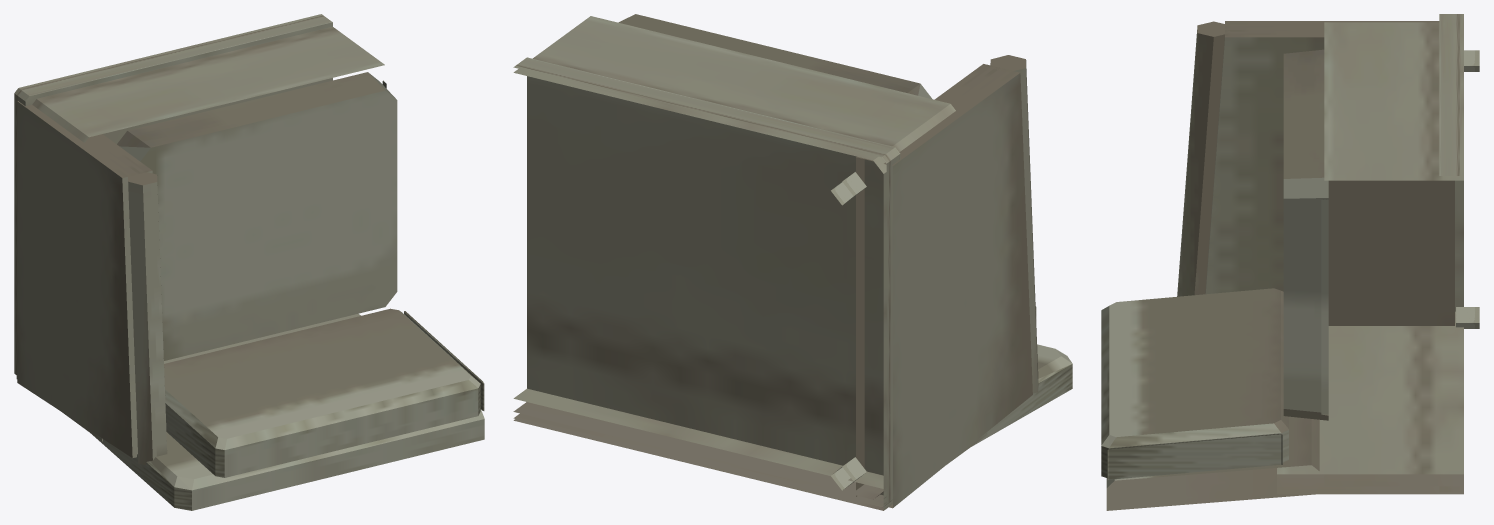
The model's file is pz_sofa_seating_indoor_03_light_blue_0_0_fidelity_r1.obj.
3 views of the same model, side by side, from view 1: azimuth 30°, elevation 25°; view 2: azimuth 150°, elevation 25°; view 3: azimuth 270°, elevation 25° (orthographic). The views are drawn at different scales.
Visible parts, largest first — view 1: pz_sofa_seating_indoor_03_light_blue_0_0__seat_0__seat, pz_sofa_seating_indoor_03_light_blue_0_0__back_cushion_0__back, pz_sofa_seating_indoor_03_light_blue_0_0__lazy_arm_panel_-1__arm, pz_sofa_seating_indoor_03_light_blue_0_0__lower_body__body, pz_sofa_seating_indoor_03_light_blue_0_0__rear_shell__back, pz_sofa_seating_indoor_03_light_blue_0_0__sloping_rail_-1__arm, pz_sofa_seating_indoor_03_light_blue_0_0__low_plinth__body, pz_sofa_seating_indoor_03_light_blue_0_0__rear_body_bridge__body, pz_sofa_seating_indoor_03_light_blue_0_0__back_cushion_1__back; view 2: pz_sofa_seating_indoor_03_light_blue_0_0__low_plinth__body, pz_sofa_seating_indoor_03_light_blue_0_0__lazy_arm_panel_-1__arm, pz_sofa_seating_indoor_03_light_blue_0_0__lower_body__body, pz_sofa_seating_indoor_03_light_blue_0_0__rear_body_bridge__body, pz_sofa_seating_indoor_03_light_blue_0_0__seat_0__seat, pz_sofa_seating_indoor_03_light_blue_0_0__sloping_rail_-1__arm, pz_sofa_seating_indoor_03_light_blue_0_0__rear_shell__back, pz_sofa_seating_indoor_03_light_blue_0_0__foot_-1_1__frame, pz_sofa_seating_indoor_03_light_blue_0_0__foot_-1_-1__frame; view 3: pz_sofa_seating_indoor_03_light_blue_0_0__lazy_arm_panel_-1__arm, pz_sofa_seating_indoor_03_light_blue_0_0__back_cushion_0__back, pz_sofa_seating_indoor_03_light_blue_0_0__rear_body_bridge__body, pz_sofa_seating_indoor_03_light_blue_0_0__lower_body__body, pz_sofa_seating_indoor_03_light_blue_0_0__seat_0__seat, pz_sofa_seating_indoor_03_light_blue_0_0__sloping_rail_-1__arm, pz_sofa_seating_indoor_03_light_blue_0_0__rear_shell__back, pz_sofa_seating_indoor_03_light_blue_0_0__back_cushion_1__back, pz_sofa_seating_indoor_03_light_blue_0_0__low_plinth__body, pz_sofa_seating_indoor_03_light_blue_0_0__seat_1__seat, pz_sofa_seating_indoor_03_light_blue_0_0__foot_-1_-1__frame.
Part boxes in pixels (<box>): pz_sofa_seating_indoor_03_light_blue_0_0__seat_0__seat: <box>117,72,397,360</box>; pz_sofa_seating_indoor_03_light_blue_0_0__back_cushion_0__back: <box>164,308,480,477</box>; pz_sofa_seating_indoor_03_light_blue_0_0__lazy_arm_panel_-1__arm: <box>17,101,152,458</box>; pz_sofa_seating_indoor_03_light_blue_0_0__lower_body__body: <box>32,26,384,142</box>; pz_sofa_seating_indoor_03_light_blue_0_0__rear_shell__back: <box>90,409,484,510</box>; pz_sofa_seating_indoor_03_light_blue_0_0__sloping_rail_-1__arm: <box>128,172,167,465</box>; pz_sofa_seating_indoor_03_light_blue_0_0__low_plinth__body: <box>14,14,332,375</box>; pz_sofa_seating_indoor_03_light_blue_0_0__rear_body_bridge__body: <box>16,313,360,441</box>; pz_sofa_seating_indoor_03_light_blue_0_0__back_cushion_1__back: <box>404,311,484,410</box>; pz_sofa_seating_indoor_03_light_blue_0_0__low_plinth__body: <box>513,57,900,508</box>; pz_sofa_seating_indoor_03_light_blue_0_0__lazy_arm_panel_-1__arm: <box>856,64,1032,508</box>; pz_sofa_seating_indoor_03_light_blue_0_0__lower_body__body: <box>513,16,955,499</box>; pz_sofa_seating_indoor_03_light_blue_0_0__rear_body_bridge__body: <box>513,388,987,510</box>; pz_sofa_seating_indoor_03_light_blue_0_0__seat_0__seat: <box>618,14,932,99</box>; pz_sofa_seating_indoor_03_light_blue_0_0__sloping_rail_-1__arm: <box>990,55,1038,393</box>; pz_sofa_seating_indoor_03_light_blue_0_0__rear_shell__back: <box>971,344,1072,446</box>; pz_sofa_seating_indoor_03_light_blue_0_0__foot_-1_1__frame: <box>831,172,866,205</box>; pz_sofa_seating_indoor_03_light_blue_0_0__foot_-1_-1__frame: <box>831,457,866,490</box>; pz_sofa_seating_indoor_03_light_blue_0_0__lazy_arm_panel_-1__arm: <box>1205,21,1454,325</box>; pz_sofa_seating_indoor_03_light_blue_0_0__back_cushion_0__back: <box>1101,288,1288,478</box>; pz_sofa_seating_indoor_03_light_blue_0_0__rear_body_bridge__body: <box>1277,311,1463,494</box>; pz_sofa_seating_indoor_03_light_blue_0_0__lower_body__body: <box>1324,22,1463,486</box>; pz_sofa_seating_indoor_03_light_blue_0_0__seat_0__seat: <box>1283,49,1328,420</box>; pz_sofa_seating_indoor_03_light_blue_0_0__sloping_rail_-1__arm: <box>1177,21,1230,296</box>; pz_sofa_seating_indoor_03_light_blue_0_0__rear_shell__back: <box>1106,416,1319,510</box>; pz_sofa_seating_indoor_03_light_blue_0_0__back_cushion_1__back: <box>1107,434,1282,479</box>; pz_sofa_seating_indoor_03_light_blue_0_0__low_plinth__body: <box>1439,14,1463,492</box>; pz_sofa_seating_indoor_03_light_blue_0_0__seat_1__seat: <box>1321,199,1328,415</box>; pz_sofa_seating_indoor_03_light_blue_0_0__foot_-1_-1__frame: <box>1456,307,1479,328</box>.
Size of the model in its own units: 0.869 by 0.8243 by 0.8442.
1 material, 1 textured.
